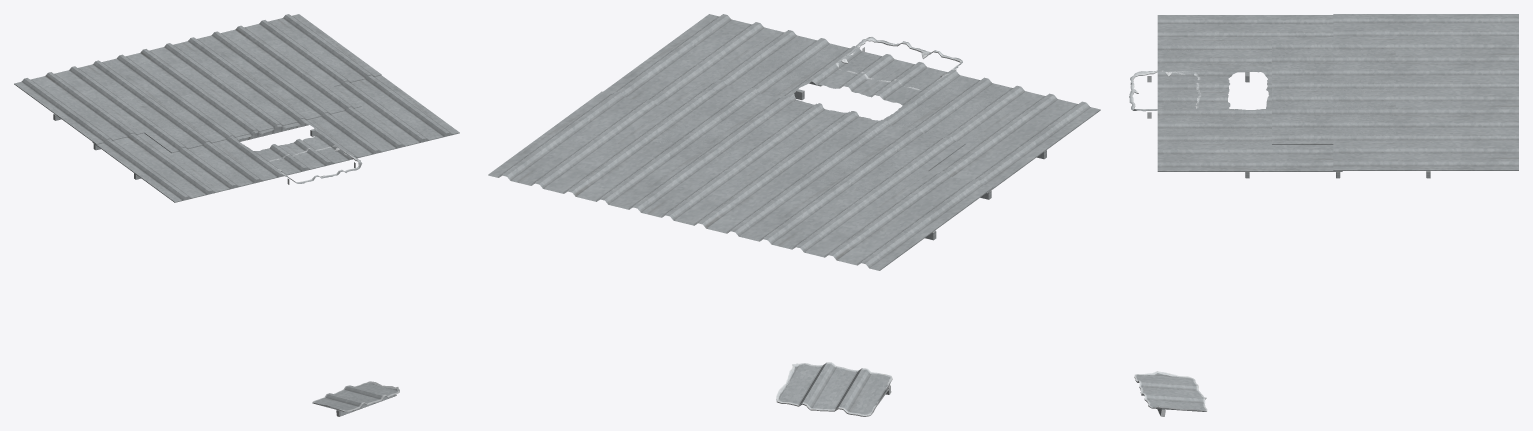
Rendered from TopHole.fbx.
3 renders of one model, left to right at view 1: azimuth 30°, elevation 25°; view 2: azimuth 150°, elevation 25°; view 3: azimuth 270°, elevation 25°, orthographic. The views are drawn at different scales.
Parts seen in each view (by area): view 1: Top_M, Top_S, Panel, Edge; view 2: Top_M, Top_S, Panel, PanelEdge, Edge; view 3: Top_M, Top_S, Panel, Edge, PanelEdge.
Part boxes in pixels (x1,y1,x2,y2): Top_M: (14, 14, 459, 202); Top_S: (126, 65, 411, 189); Panel: (313, 383, 397, 416); Edge: (267, 144, 362, 184); Top_M: (488, 14, 1100, 270); Top_S: (635, 30, 1033, 198); Panel: (779, 363, 890, 414); PanelEdge: (776, 362, 892, 416); Edge: (835, 37, 962, 90); Top_M: (1157, 14, 1518, 178); Top_S: (1157, 40, 1395, 144); Panel: (1136, 373, 1206, 415); Edge: (1129, 70, 1201, 118); PanelEdge: (1134, 371, 1207, 416).
Bounding box in the file's own units: 12 × 10.19 × 12.66.
Materials: 2 (2 with a texture image).
